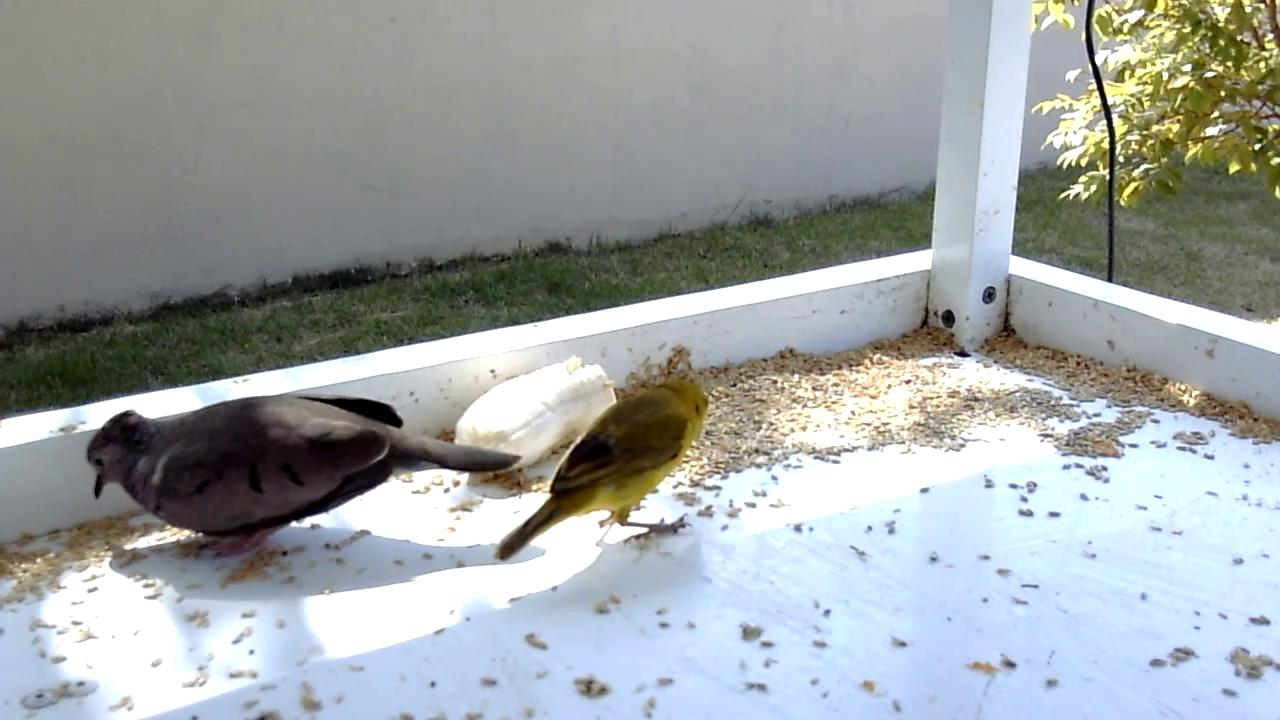canario_do_amazonas: (492, 374, 715, 566)
rolinha: (82, 389, 526, 561)
